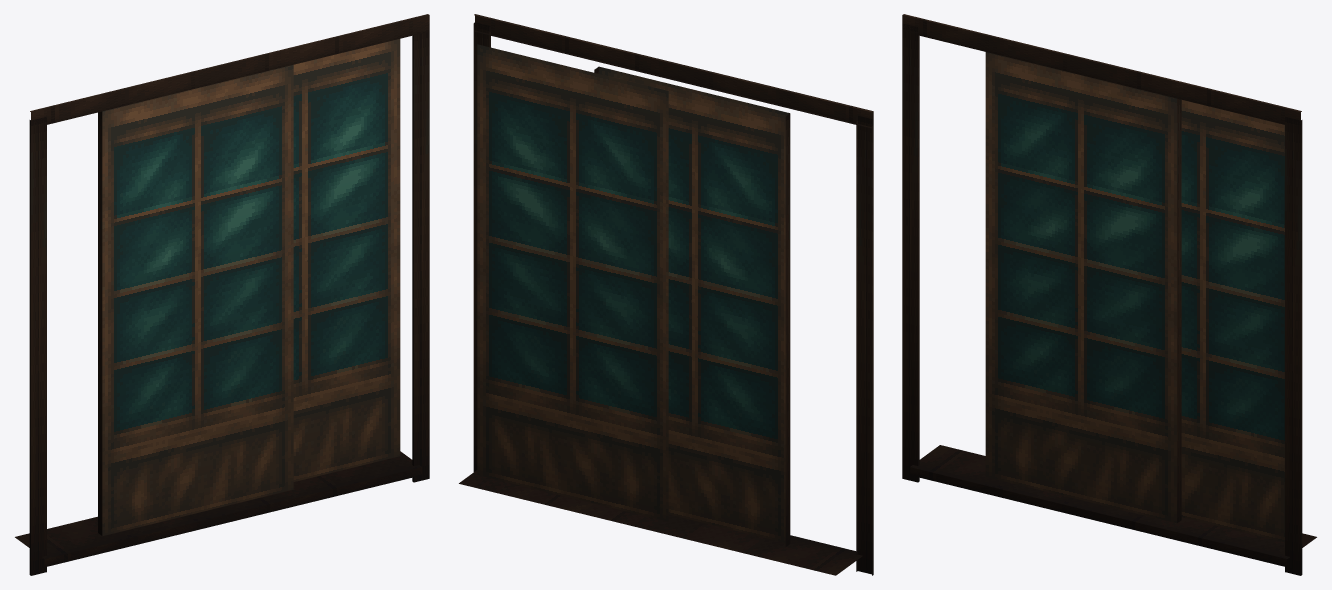
The model's file is prop_sash-14-16-2.glb.
3 views of the same model, side by side, from view 1: azimuth 30°, elevation 25°; view 2: azimuth 150°, elevation 25°; view 3: azimuth 330°, elevation 25° (orthographic).
Parts seen in each view (by area): view 1: prop_sash-14-16-2; view 2: prop_sash-14-16-2; view 3: prop_sash-14-16-2.
Boxes of the visible parts, x1=… form: prop_sash-14-16-2: x1=15, y1=14, x2=429, y2=575; prop_sash-14-16-2: x1=459, y1=14, x2=873, y2=575; prop_sash-14-16-2: x1=902, y1=14, x2=1316, y2=575.
Bounding box in the file's own units: 1.52 × 1.69 × 0.2.
Materials: 2 (2 with a texture image).
